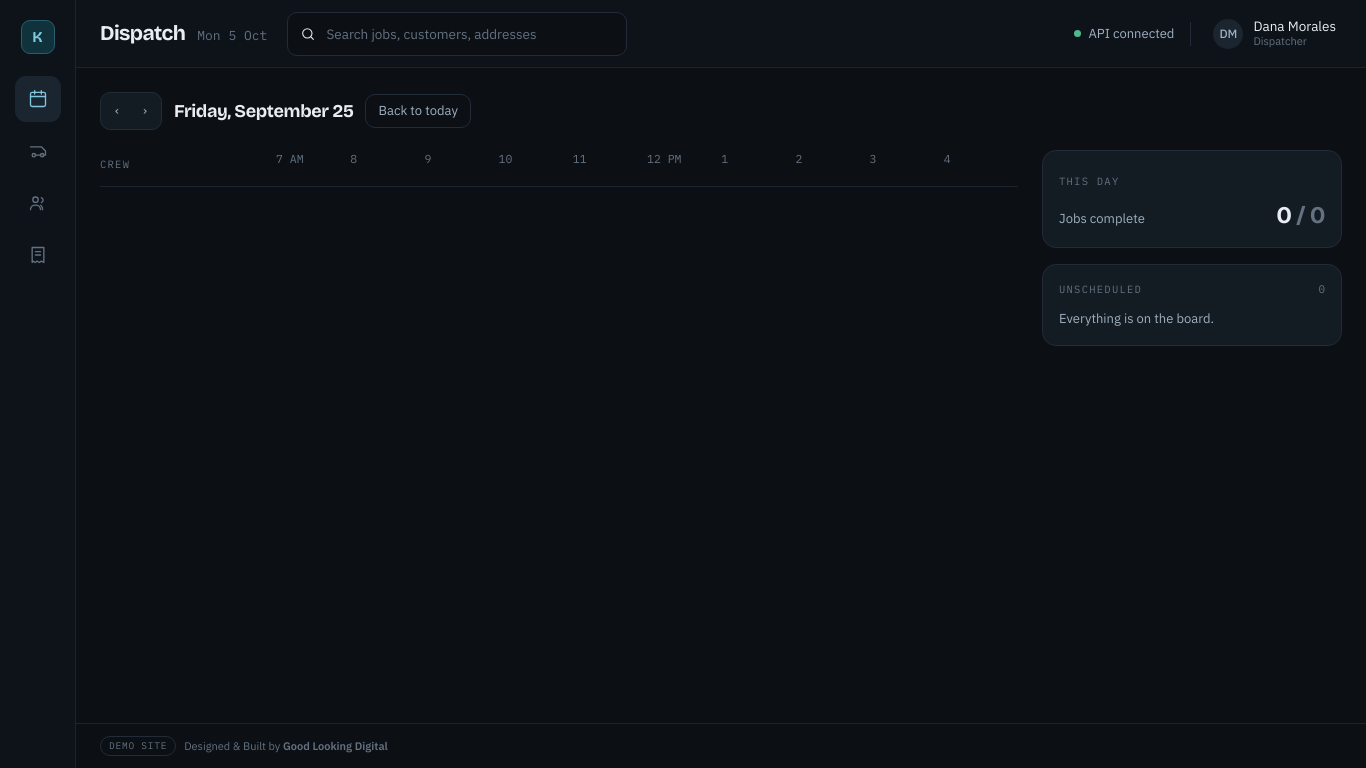
Test: the search box › opens a job on the day its board is showing
Type "osei" into the dropdown labelled "Search jobs, customers, addresses" at (470, 34), box [326,12,614,54]
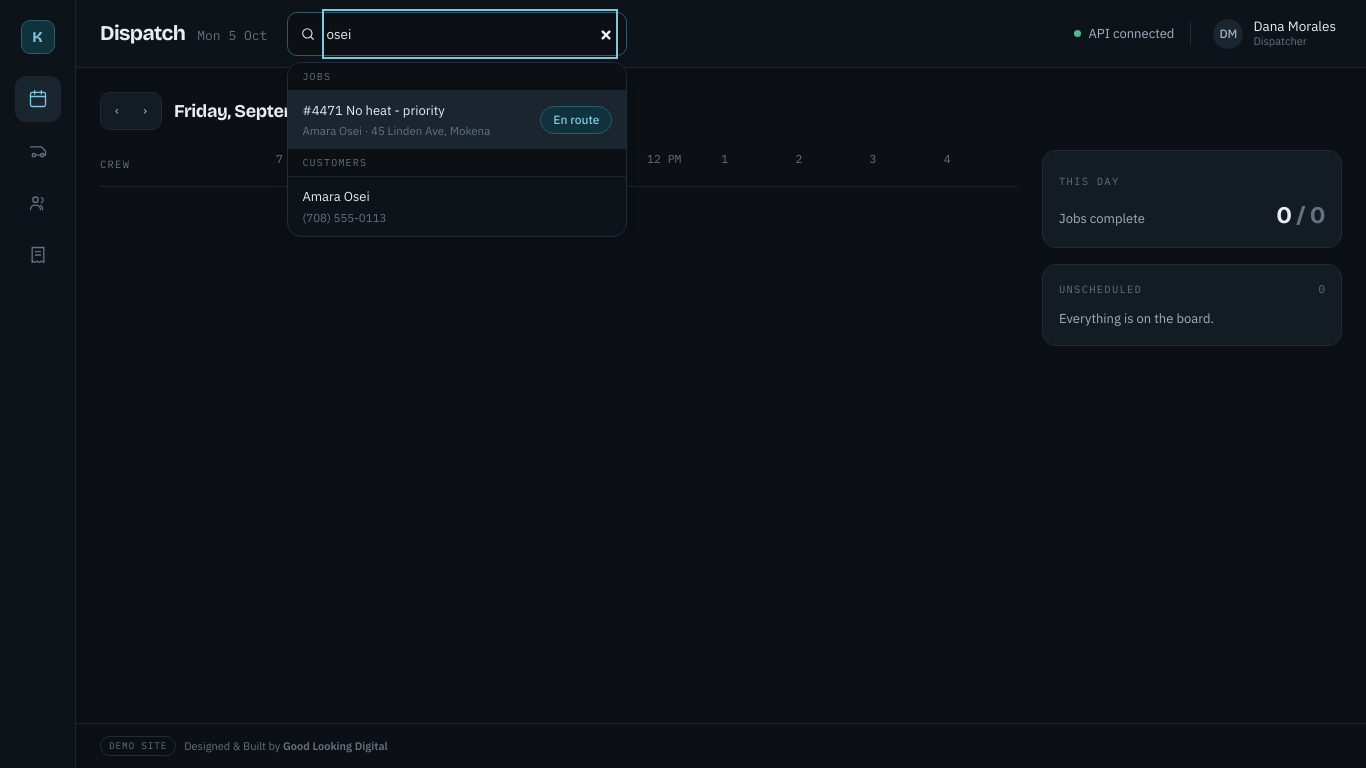
Click the text "#4471 No heat - priority" at (374, 110), box [302,102,445,118]
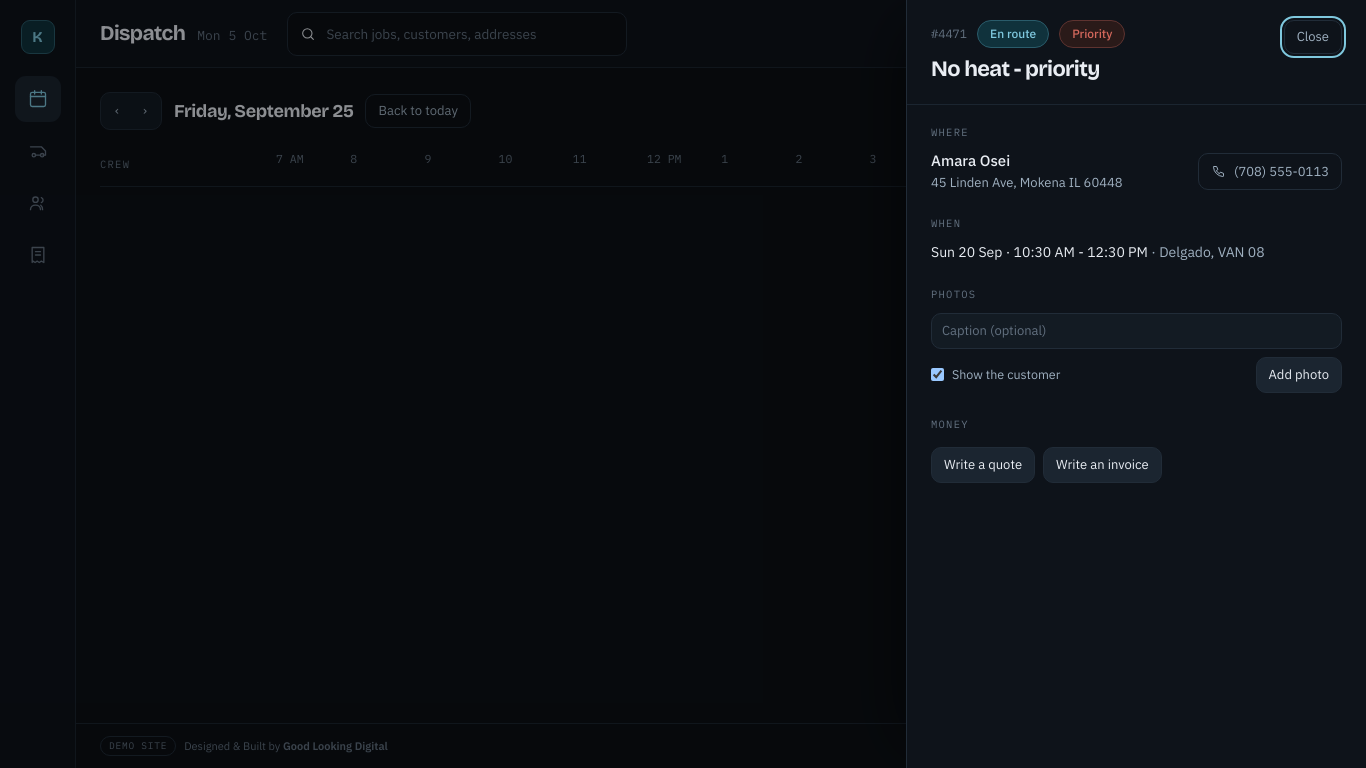
Result: the list is gone
Result: the dialog "No heat - priority" is shown at [906,0,1365,767]
